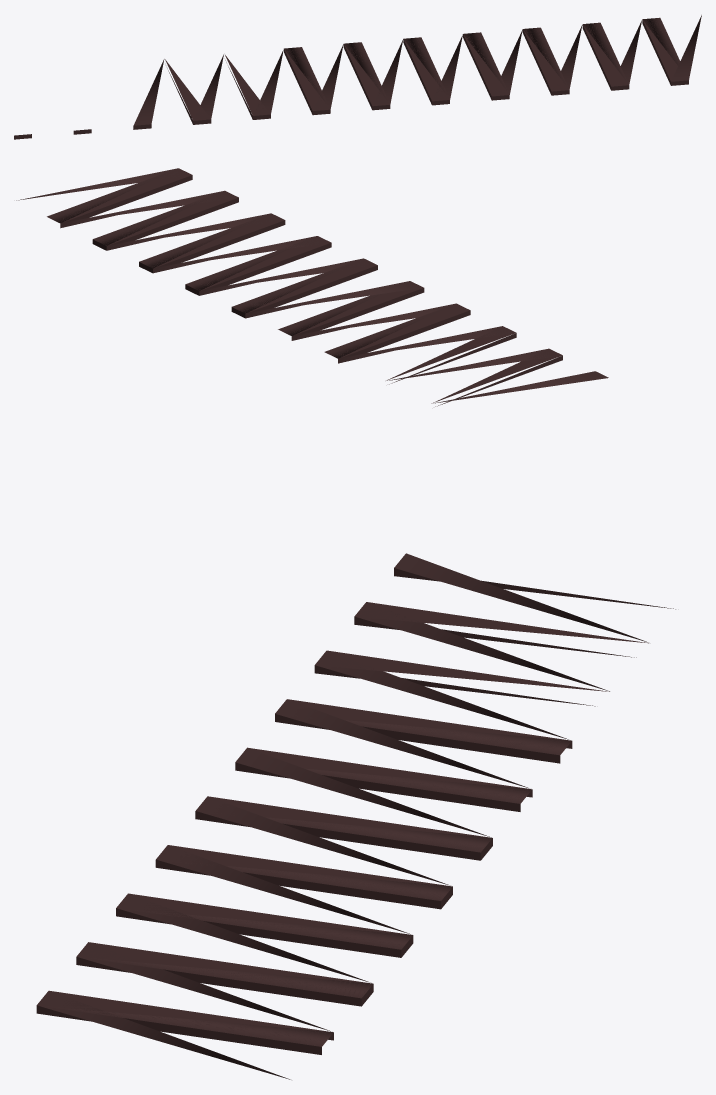
The picture shows the model from 3 angles, top to bottom: view 1: azimuth 30°, elevation 25°; view 2: azimuth 150°, elevation 25°; view 3: azimuth 270°, elevation 25°; orthographic projection. The views are drawn at different scales.
Size of the model in its own units: 10.45 by 0.064 by 4.54.
